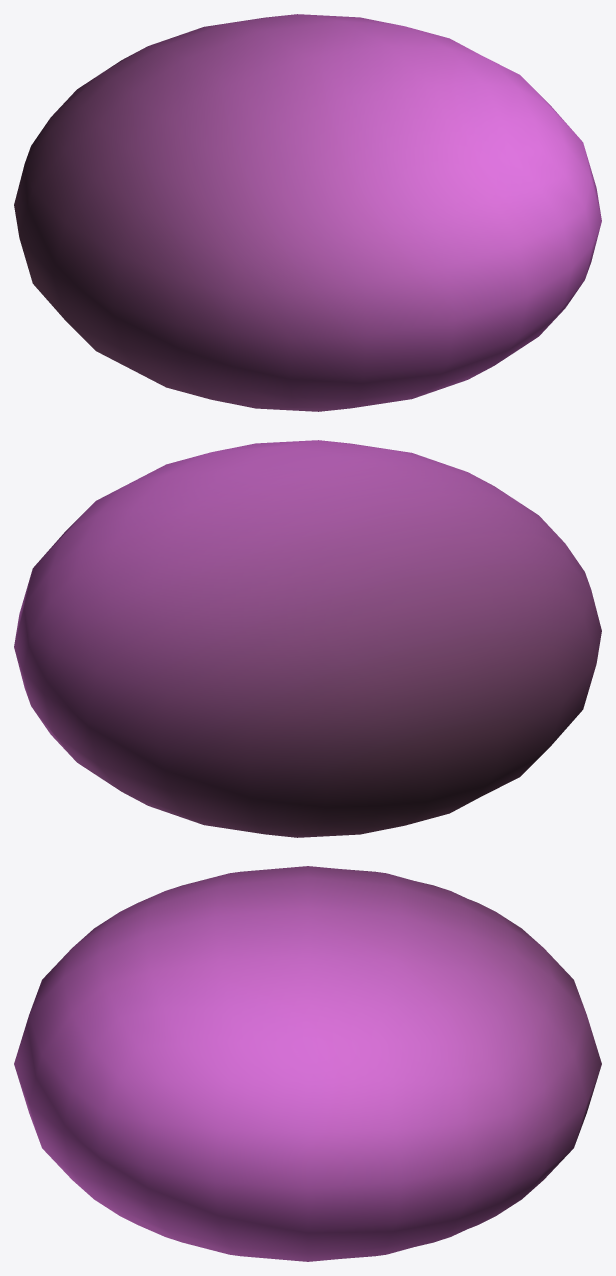
The model's file is Fire Opal.fbx.
3 views of the same model, one above another, from view 1: azimuth 30°, elevation 25°; view 2: azimuth 150°, elevation 25°; view 3: azimuth 270°, elevation 25° (orthographic).
Visible parts, largest first — view 1: FIRE OPAL.001; view 2: FIRE OPAL.001; view 3: FIRE OPAL.001.
Boxes of the visible parts, x1=… form: FIRE OPAL.001: x1=14, y1=14, x2=601, y2=411; FIRE OPAL.001: x1=14, y1=440, x2=601, y2=837; FIRE OPAL.001: x1=14, y1=866, x2=601, y2=1261.
Size of the model in its own units: 148 by 86.34 by 148.
1 material, 1 textured.
